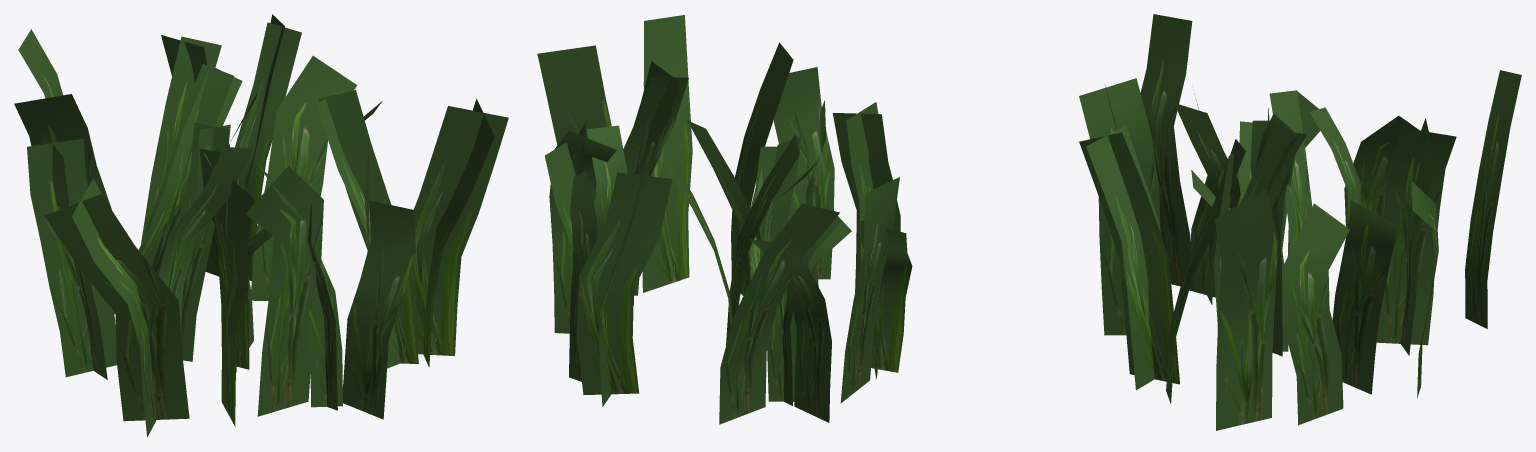
Rendered from Backyard_Grass.glb.
The picture shows the model from 3 angles, left to right: view 1: azimuth 30°, elevation 25°; view 2: azimuth 150°, elevation 25°; view 3: azimuth 270°, elevation 25°; orthographic projection. The views are drawn at different scales.
Visible parts, largest first — view 1: Backyard_Grass_Hero_35; view 2: Backyard_Grass_Hero_35; view 3: Backyard_Grass_Hero_35.
Boxes of the visible parts, x1=… form: Backyard_Grass_Hero_35: x1=14, y1=14, x2=508, y2=437; Backyard_Grass_Hero_35: x1=537, y1=15, x2=912, y2=424; Backyard_Grass_Hero_35: x1=1079, y1=14, x2=1521, y2=430.
Bounding box in the file's own units: 0.4095 × 0.2251 × 0.374.
Materials: 3 (3 with a texture image).
